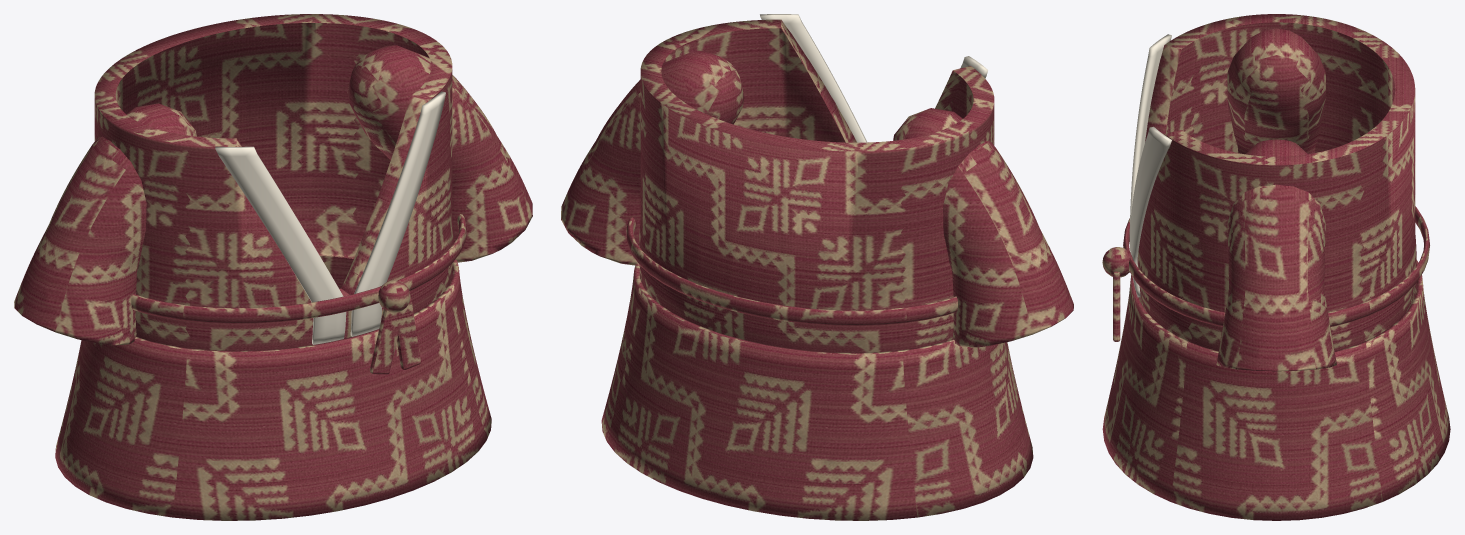
Rendered from bathrobe4.fbx.
The picture shows the model from 3 angles, left to right: view 1: azimuth 30°, elevation 25°; view 2: azimuth 150°, elevation 25°; view 3: azimuth 270°, elevation 25°; orthographic projection. The views are drawn at different scales.
Visible parts, largest first — view 1: bathrobe4; view 2: bathrobe4; view 3: bathrobe4.
Part boxes in pixels (x1,y1,x2,y2): bathrobe4: (14, 14, 532, 520); bathrobe4: (561, 14, 1073, 520); bathrobe4: (1102, 14, 1450, 520).
Size of the model in its own units: 1.35 by 0.925 by 0.8523.
Materials: 2 (1 with a texture image).
